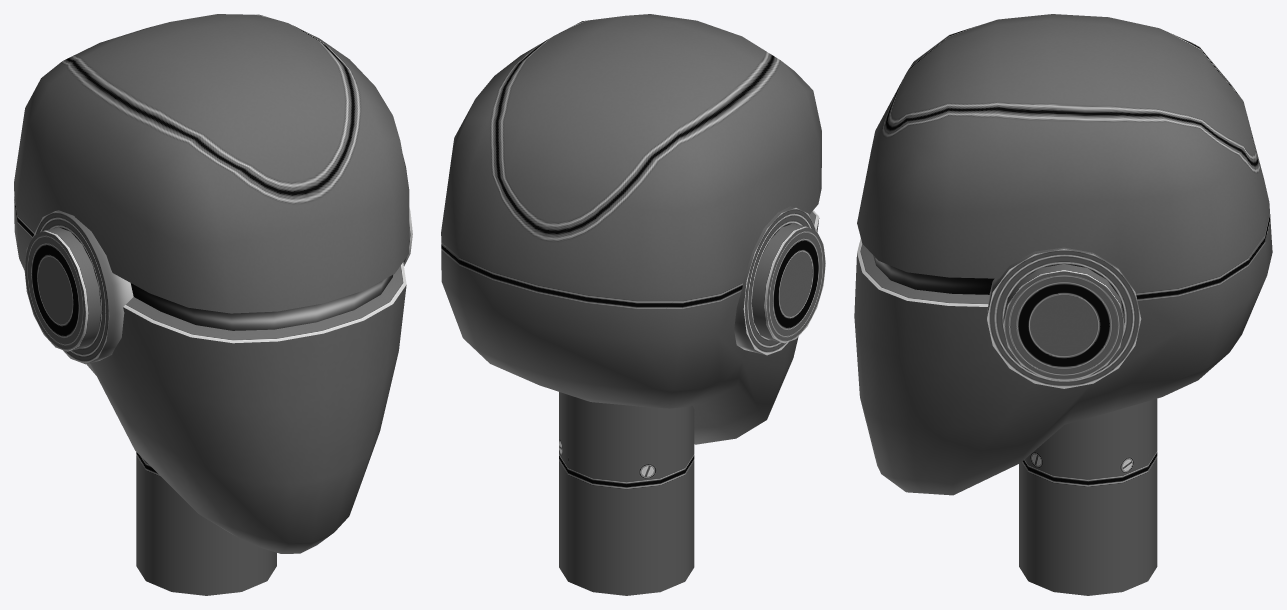
File: head_s.fbx
3 views of the same model, side by side, from view 1: azimuth 30°, elevation 25°; view 2: azimuth 150°, elevation 25°; view 3: azimuth 270°, elevation 25° (orthographic). The views are drawn at different scales.
Parts seen in each view (by area): view 1: HEAD_S; view 2: HEAD_S; view 3: HEAD_S.
Part boxes in pixels (box(x1,y1,x2,y2)): HEAD_S: box(14, 14, 412, 595); HEAD_S: box(441, 14, 825, 595); HEAD_S: box(854, 14, 1272, 595).
Size of the model in its own units: 18.96 by 29.71 by 21.34.
